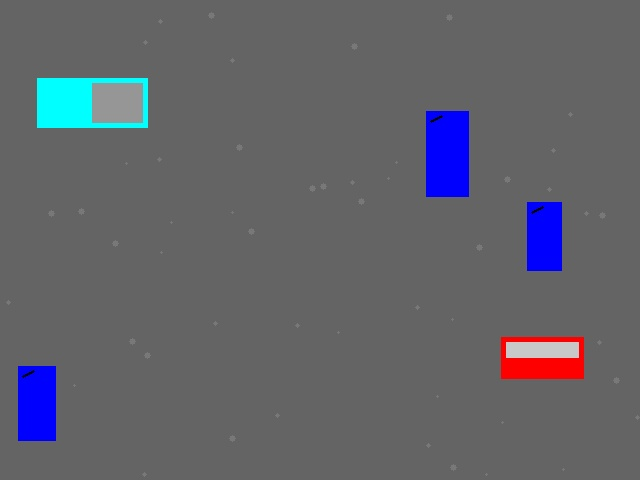car: (501, 337, 583, 378)
motorcycle: (426, 111, 468, 196), (18, 366, 55, 440), (527, 202, 561, 270)
truck: (37, 78, 147, 127)
